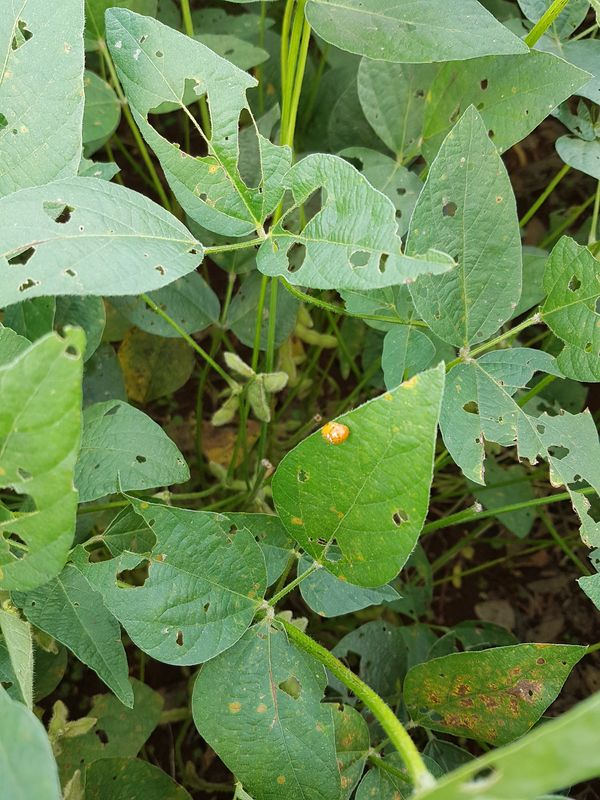Coccinellidae: (327, 423, 356, 447), (319, 420, 332, 447)
